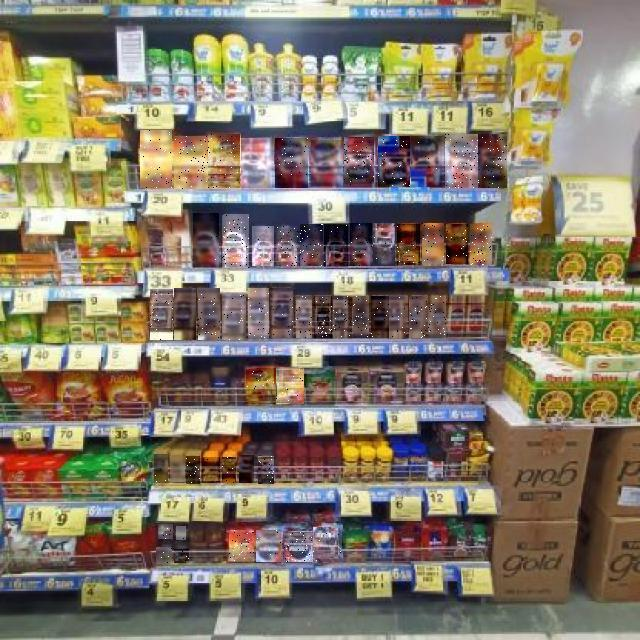Coffee: (140, 130, 172, 188), (174, 136, 208, 189), (445, 134, 478, 188), (208, 134, 240, 188), (275, 138, 308, 188), (412, 136, 444, 187), (378, 136, 410, 187), (242, 138, 274, 188), (478, 134, 507, 188), (311, 140, 343, 186), (222, 214, 249, 268), (344, 138, 374, 186), (193, 213, 219, 267), (150, 289, 173, 340), (270, 288, 293, 338), (198, 288, 220, 340), (175, 288, 197, 340), (222, 294, 246, 340), (246, 368, 276, 404), (248, 288, 269, 338), (276, 367, 304, 404), (324, 224, 348, 267), (300, 225, 323, 267), (314, 528, 342, 562), (350, 223, 372, 266), (373, 223, 395, 266), (397, 224, 420, 265), (422, 224, 444, 266), (470, 224, 492, 265), (446, 225, 468, 265), (252, 226, 274, 266), (276, 226, 298, 266), (284, 532, 313, 562), (256, 530, 281, 562), (229, 530, 254, 562), (390, 295, 408, 339), (314, 296, 332, 339), (428, 296, 446, 338), (371, 296, 389, 338), (410, 296, 428, 338), (334, 296, 352, 338), (296, 296, 312, 338), (353, 297, 369, 339), (202, 457, 220, 483), (240, 455, 256, 483), (258, 456, 274, 484), (170, 455, 185, 482), (154, 455, 168, 483), (186, 456, 200, 484), (222, 457, 236, 483), (156, 548, 172, 564), (158, 524, 173, 539), (174, 549, 189, 563), (176, 526, 186, 540)
